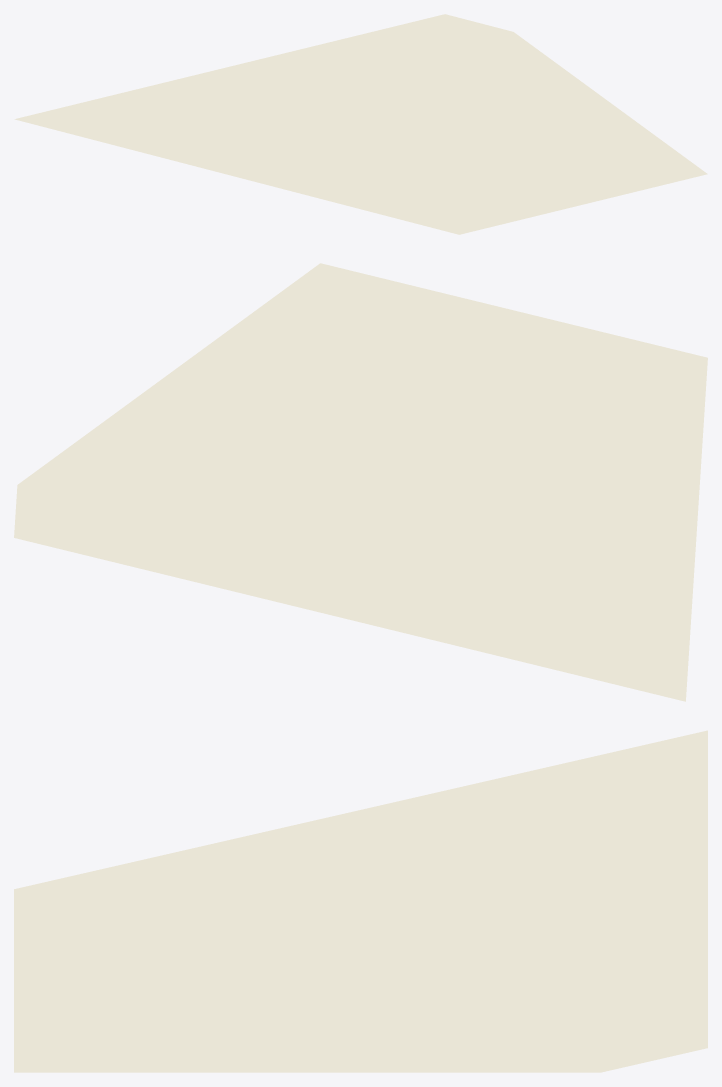
The model's file is sun-patch-edge.glb.
The picture shows the model from 3 angles, top to bottom: view 1: azimuth 30°, elevation 25°; view 2: azimuth 150°, elevation 25°; view 3: azimuth 270°, elevation 25°; orthographic projection. The views are drawn at different scales.
Parts seen in each view (by area): view 1: part; view 2: part; view 3: part.
Part boxes in pixels (x1,y1,x2,y2): part: [15, 14, 707, 234]; part: [14, 263, 707, 701]; part: [14, 730, 707, 1072].
Size of the model in its own units: 2.8 by 0 by 2.4.
1 material, 1 textured.
